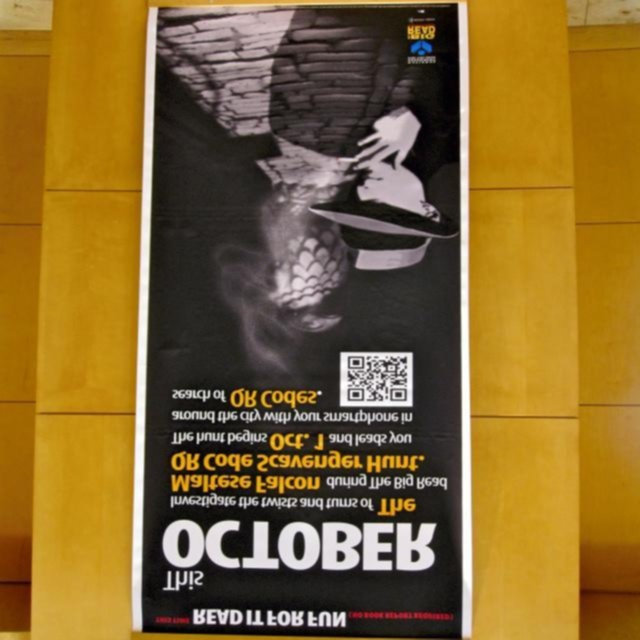qr-code: (347, 356, 407, 402)
